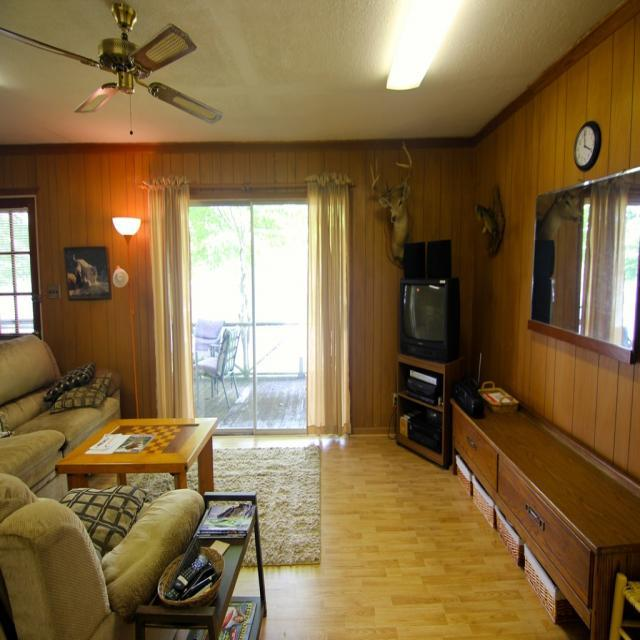fan_off: (0, 5, 228, 125)
